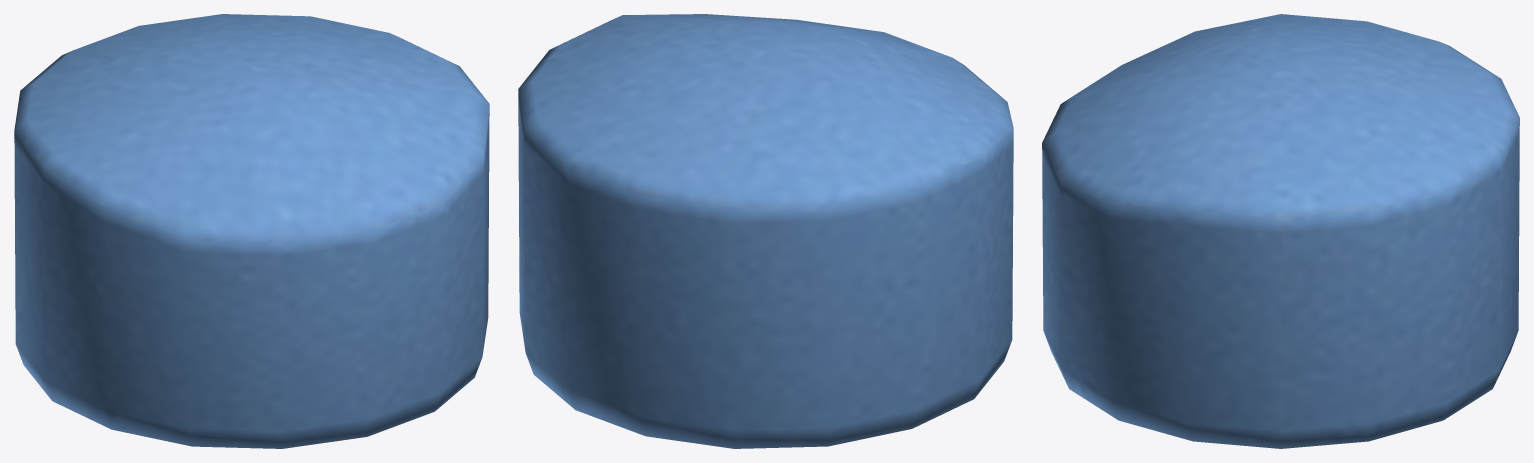
File: bottle_content_d.glb
3 views of the same model, side by side, from view 1: azimuth 30°, elevation 25°; view 2: azimuth 150°, elevation 25°; view 3: azimuth 270°, elevation 25° (orthographic). The views are drawn at different scales.
Visible parts, largest first — view 1: chemistry_set_bottle_content_d.001; view 2: chemistry_set_bottle_content_d.001; view 3: chemistry_set_bottle_content_d.001.
Part boxes in pixels (box(x1,y1,x2,y2)): chemistry_set_bottle_content_d.001: box(14, 14, 489, 448); chemistry_set_bottle_content_d.001: box(518, 14, 1013, 448); chemistry_set_bottle_content_d.001: box(1042, 14, 1519, 448).
Bounding box in the file's own units: 0.0454 × 0.0304 × 0.0454.
Materials: 1 (1 with a texture image).
